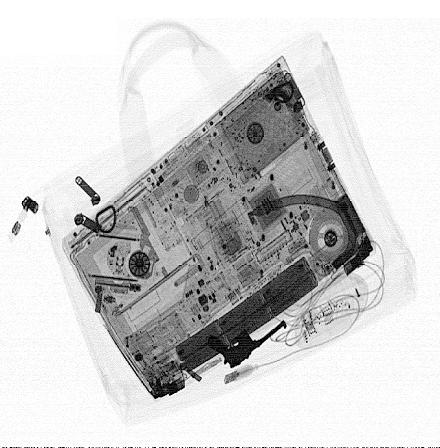Gun: (209, 319, 289, 368)
